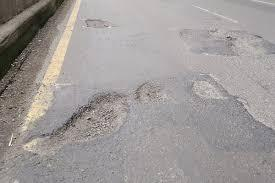Pothole: (17, 85, 129, 170), (212, 22, 272, 68), (183, 71, 229, 106), (132, 75, 168, 110), (82, 12, 115, 33)
